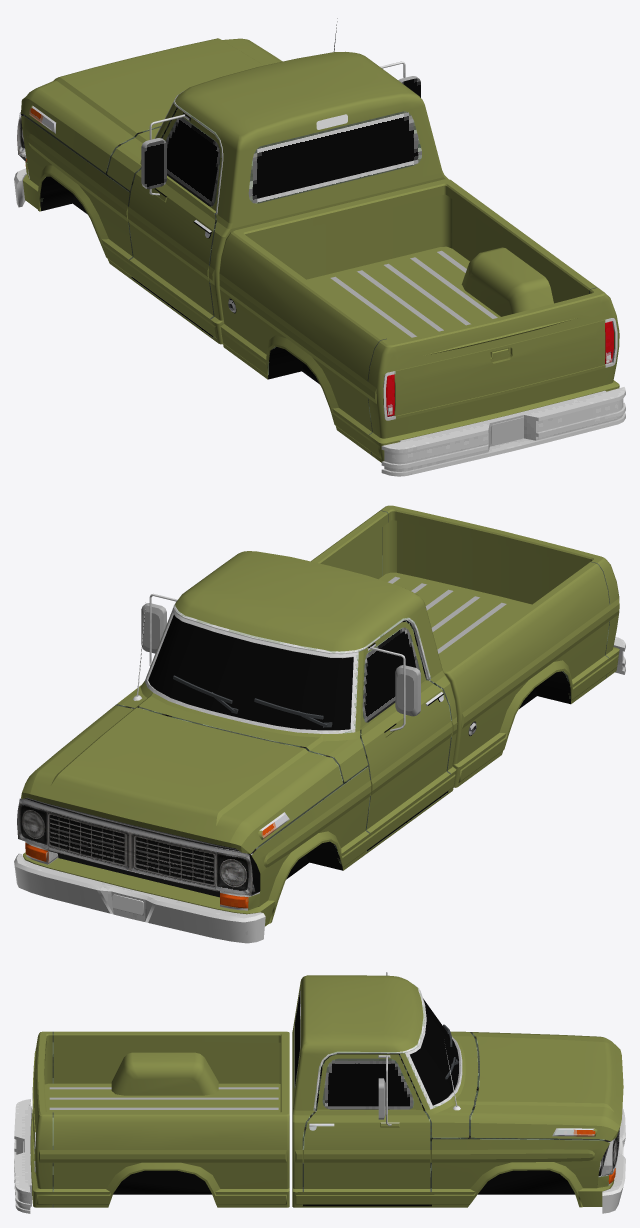
The model's file is chassis.glb.
3 renders of one model, top to bottom at view 1: azimuth 30°, elevation 25°; view 2: azimuth 150°, elevation 25°; view 3: azimuth 270°, elevation 25°, orthographic. The views are drawn at different scales.
Visible parts, largest first — view 1: PickupBody; view 2: PickupBody; view 3: PickupBody.
Boxes of the visible parts, x1=… form: PickupBody: x1=14, y1=18, x2=625, y2=476; PickupBody: x1=14, y1=505, x2=625, y2=943; PickupBody: x1=14, y1=972, x2=625, y2=1213.
Bounding box in the file's own units: 2 × 1.48 × 4.86.
Materials: 12 (11 with a texture image).
